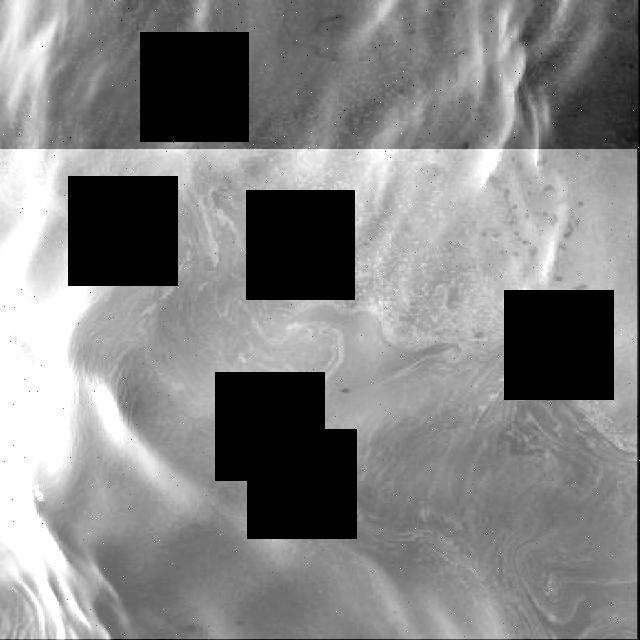oil spill: (0, 149, 637, 640)
